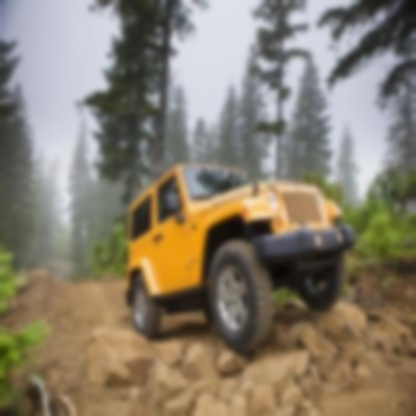Vehicle: (124, 161, 359, 358)
